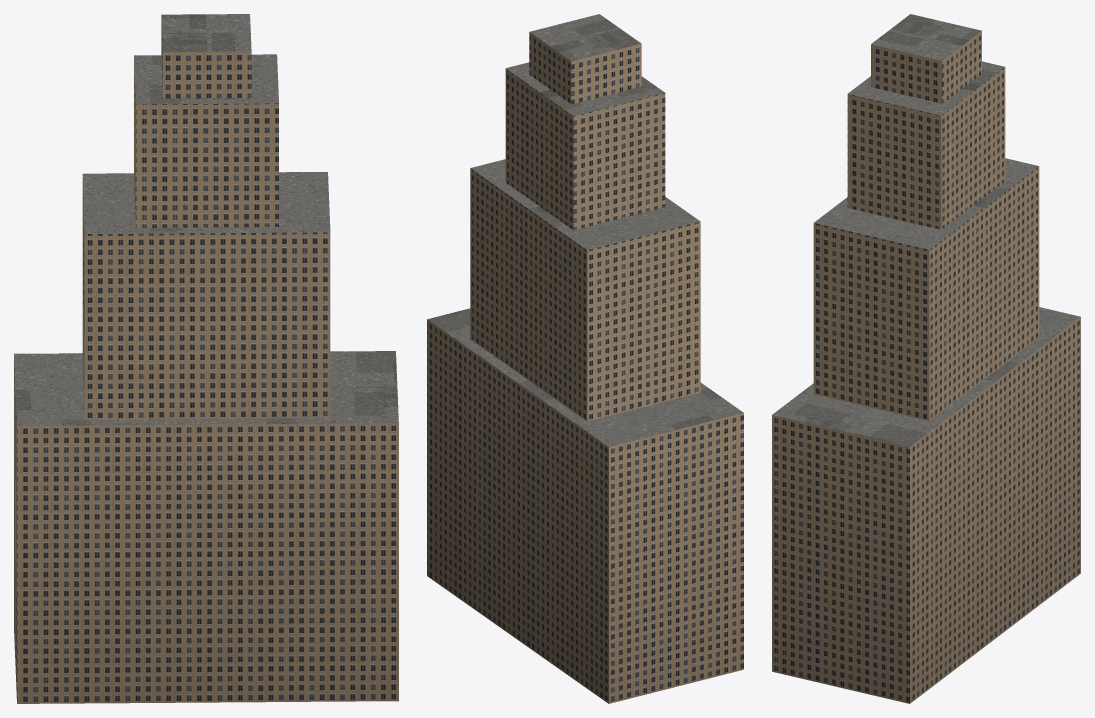
The model's file is lincoln.glb.
3 renders of one model, left to right at view 1: azimuth 30°, elevation 25°; view 2: azimuth 150°, elevation 25°; view 3: azimuth 270°, elevation 25°, orthographic. The views are drawn at different scales.
Parts seen in each view (by area): view 1: lincoln; view 2: lincoln; view 3: lincoln.
Boxes of the visible parts, left/top/right/bottom form: lincoln: left=14, top=14, right=398, bottom=703; lincoln: left=427, top=14, right=743, bottom=703; lincoln: left=772, top=14, right=1080, bottom=703.
Size of the model in its own units: 122 by 205 by 98.03.
8 materials, 8 textured.
